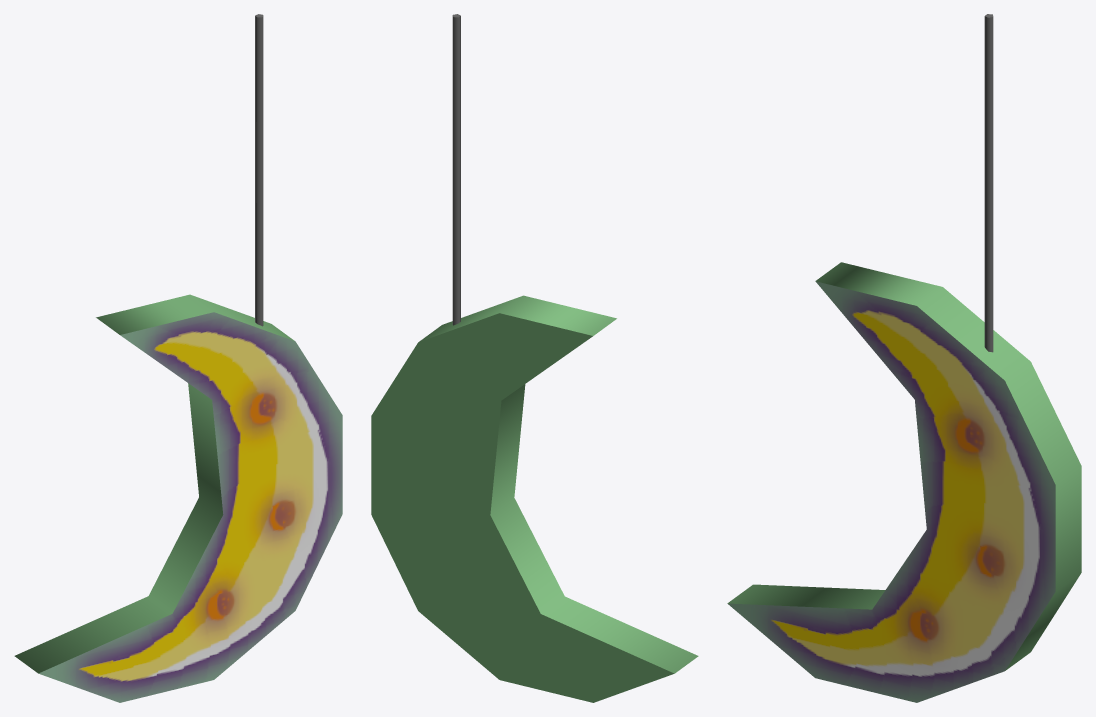
Rendered from Luna.fbx.
3 views of the same model, side by side, from view 1: azimuth 30°, elevation 25°; view 2: azimuth 150°, elevation 25°; view 3: azimuth 330°, elevation 25° (orthographic). The views are drawn at different scales.
Visible parts, largest first — view 1: Object062; view 2: Object062; view 3: Object062.
Boxes of the visible parts, x1,y1,x2,y2 form: Object062: (14, 14, 342, 702); Object062: (371, 14, 698, 702); Object062: (727, 14, 1081, 702).
Bounding box in the file's own units: 42.28 × 85.28 × 5.79.
3 materials, 1 textured.
